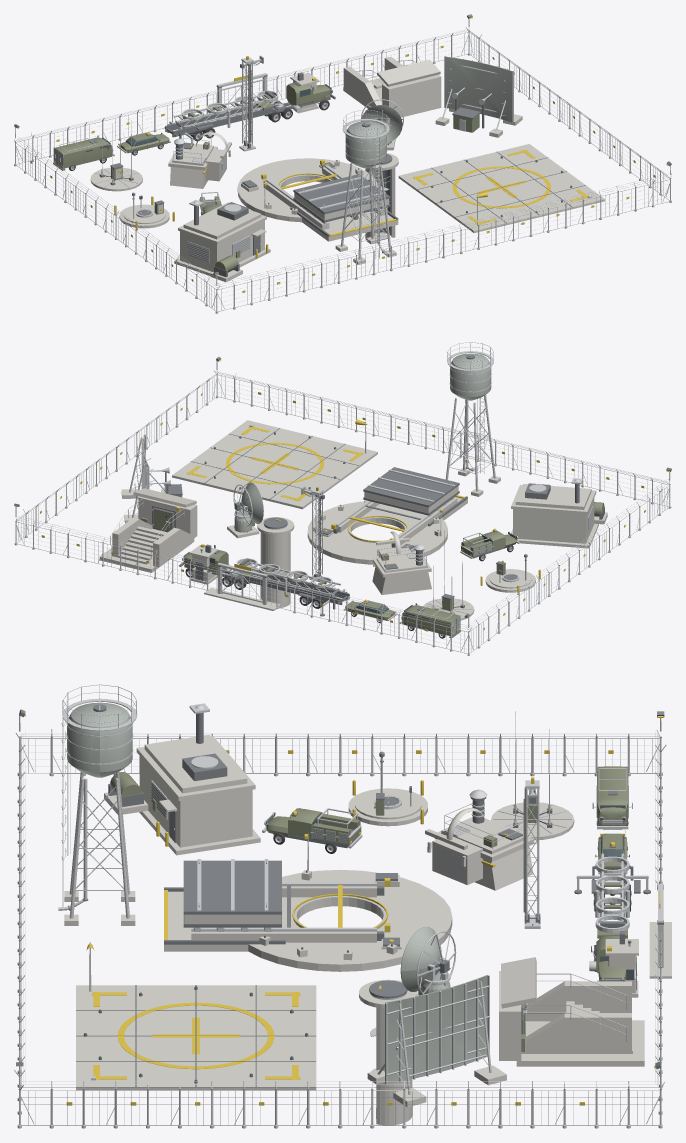
Rendered from cold-war-missile-silo-and-command-bunker-surface-site-3d3bac9b__15716.glb.
The picture shows the model from 3 angles, top to bottom: view 1: azimuth 30°, elevation 25°; view 2: azimuth 150°, elevation 25°; view 3: azimuth 270°, elevation 25°; orthographic projection. The views are drawn at different scales.
Parts seen in each view (by area): view 1: 057-helipad-marking-slab/0, 045-silo-headworks-collar/0, 050-hardened-entry-portal/0, 051-site-generator-house/0, 055-tropospheric-scatter-antenna/2, 046-silo-blast-door-sliding/blast-door (×3), 053-site-water-tower/1, 048-silo-exhaust-duct/0, 053-site-water-tower/2, 057-helipad-marking-slab/2, 058-transporter-erector-trailer/0, 058-transporter-erector-trailer/erector-beam (+14 smaller); view 2: 057-helipad-marking-slab/0, 050-hardened-entry-portal/0, 051-site-generator-house/0, 045-silo-headworks-collar/0, 046-silo-blast-door-sliding/blast-door (×3), 053-site-water-tower/1, 048-silo-exhaust-duct/0, 047-personnel-access-shaft/0, 053-site-water-tower/2, 057-helipad-marking-slab/2, 058-transporter-erector-trailer/0, 058-transporter-erector-trailer/erector-beam (+14 smaller); view 3: 057-helipad-marking-slab/0, 050-hardened-entry-portal/0, 045-silo-headworks-collar/0, 051-site-generator-house/0, 046-silo-blast-door-sliding/blast-door (×3), 055-tropospheric-scatter-antenna/2, 053-site-water-tower/1, 048-silo-exhaust-duct/0, 053-site-water-tower/2, 055-tropospheric-scatter-antenna/1, 057-helipad-marking-slab/2, 046-silo-blast-door-sliding/0 (+34 smaller).
Boxes of the visible parts, bbox=[...] form: 057-helipad-marking-slab/0: bbox=[398, 144, 604, 233]; 045-silo-headworks-collar/0: bbox=[237, 158, 398, 241]; 050-hardened-entry-portal/0: bbox=[343, 56, 441, 117]; 051-site-generator-house/0: bbox=[174, 202, 270, 282]; 055-tropospheric-scatter-antenna/2: bbox=[444, 56, 512, 122]; 046-silo-blast-door-sliding/blast-door (×3): bbox=[293, 174, 390, 223]; 053-site-water-tower/1: bbox=[341, 110, 390, 259]; 048-silo-exhaust-duct/0: bbox=[168, 132, 231, 188]; 053-site-water-tower/2: bbox=[345, 121, 386, 168]; 057-helipad-marking-slab/2: bbox=[413, 150, 588, 224]; 058-transporter-erector-trailer/0: bbox=[164, 82, 335, 138]; 058-transporter-erector-trailer/erector-beam: bbox=[173, 90, 278, 128]; 057-helipad-marking-slab/0: bbox=[172, 420, 377, 509]; 050-hardened-entry-portal/0: bbox=[99, 488, 197, 572]; 051-site-generator-house/0: bbox=[511, 484, 607, 548]; 045-silo-headworks-collar/0: bbox=[307, 497, 467, 564]; 046-silo-blast-door-sliding/blast-door (×3): bbox=[363, 467, 459, 515]; 053-site-water-tower/1: bbox=[445, 342, 495, 491]; 048-silo-exhaust-duct/0: bbox=[372, 531, 431, 594]; 047-personnel-access-shaft/0: bbox=[257, 517, 294, 608]; 053-site-water-tower/2: bbox=[450, 353, 491, 400]; 057-helipad-marking-slab/2: bbox=[186, 419, 367, 500]; 058-transporter-erector-trailer/0: bbox=[179, 545, 349, 616]; 058-transporter-erector-trailer/erector-beam: bbox=[236, 558, 340, 596]; 057-helipad-marking-slab/0: bbox=[76, 985, 316, 1090]; 050-hardened-entry-portal/0: bbox=[499, 957, 644, 1066]; 045-silo-headworks-collar/0: bbox=[164, 869, 452, 971]; 051-site-generator-house/0: bbox=[104, 734, 260, 855]; 046-silo-blast-door-sliding/blast-door (×3): bbox=[183, 859, 281, 931]; 055-tropospheric-scatter-antenna/2: bbox=[385, 975, 487, 1083]; 053-site-water-tower/1: bbox=[58, 684, 137, 918]; 048-silo-exhaust-duct/0: bbox=[425, 807, 534, 890]; 053-site-water-tower/2: bbox=[67, 702, 132, 777]; 055-tropospheric-scatter-antenna/1: bbox=[377, 975, 491, 1094]; 057-helipad-marking-slab/2: bbox=[86, 943, 300, 1079]; 046-silo-blast-door-sliding/0: bbox=[191, 886, 376, 942].
Bounding box in the file's own units: 52.72 × 23 × 41.06.
